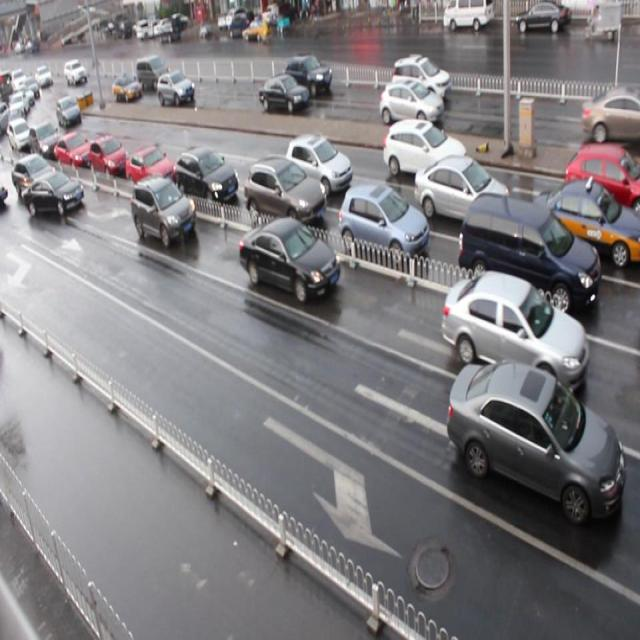car: (445, 356, 625, 522), (442, 268, 590, 397), (532, 181, 640, 273), (238, 213, 340, 306), (338, 183, 430, 272), (416, 153, 510, 235), (244, 155, 326, 230), (384, 118, 468, 188), (566, 142, 640, 220), (129, 174, 195, 249), (283, 132, 354, 195), (174, 148, 240, 208), (582, 90, 640, 148), (21, 169, 86, 220), (378, 80, 444, 130), (124, 143, 178, 194), (393, 57, 449, 104), (12, 153, 58, 204), (90, 134, 132, 180), (284, 56, 332, 96), (259, 76, 307, 115), (53, 130, 90, 176), (157, 70, 194, 110), (31, 120, 62, 162), (112, 73, 144, 102)
truck: (459, 190, 597, 321), (136, 57, 171, 92)
